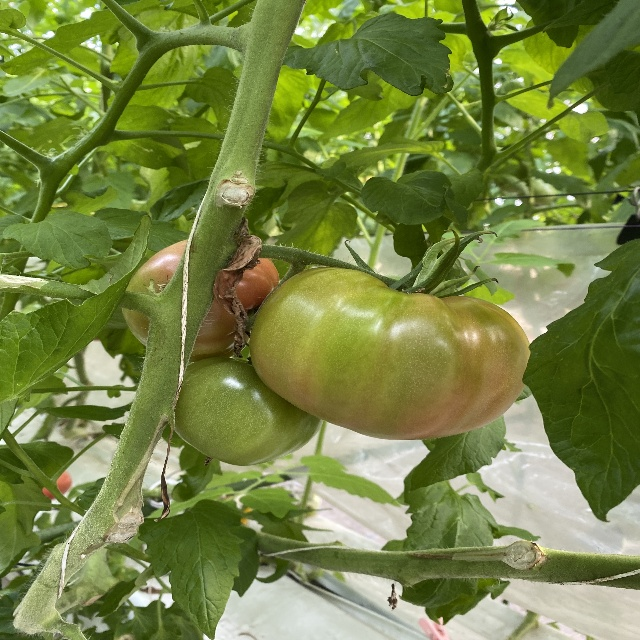b_green: (249, 266, 533, 440), (171, 358, 323, 466)
b_half_ripened: (121, 236, 281, 362)
